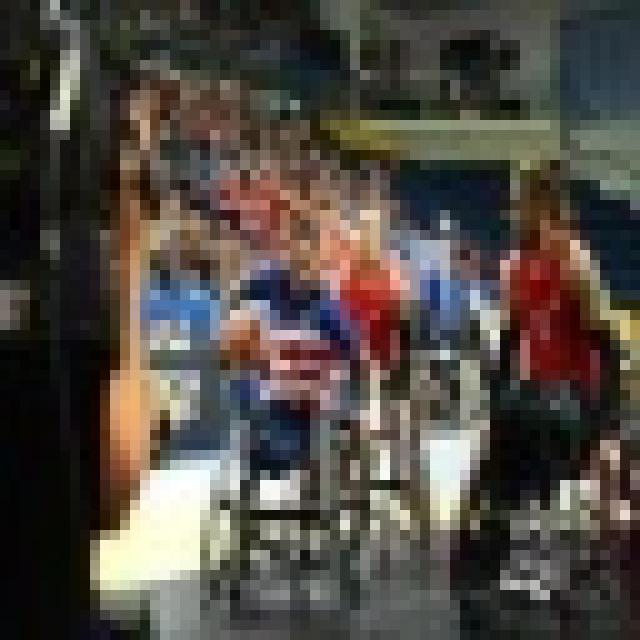wheelchairs: (202, 397, 438, 611), (468, 338, 640, 598)
